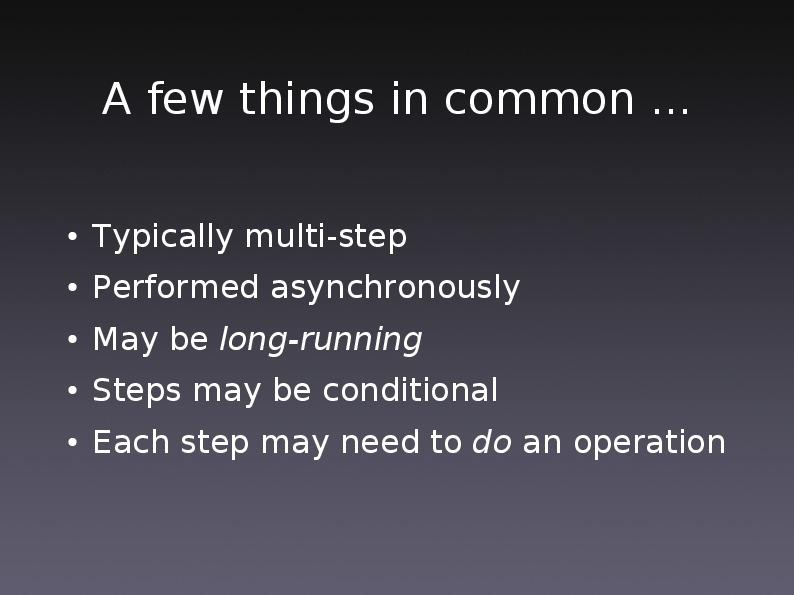paragraph: (57, 206, 738, 467)
title: (97, 72, 643, 122)
